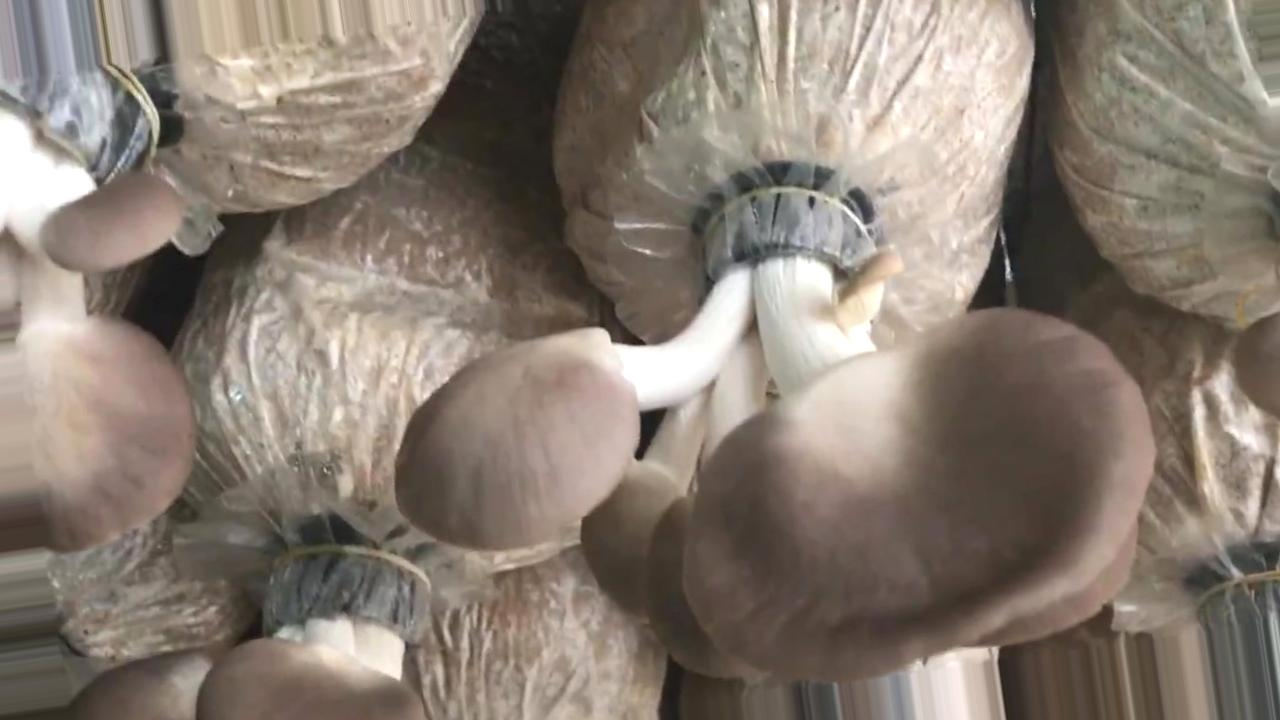nam: (392, 156, 1152, 677), (1, 74, 198, 551), (70, 546, 430, 720)
